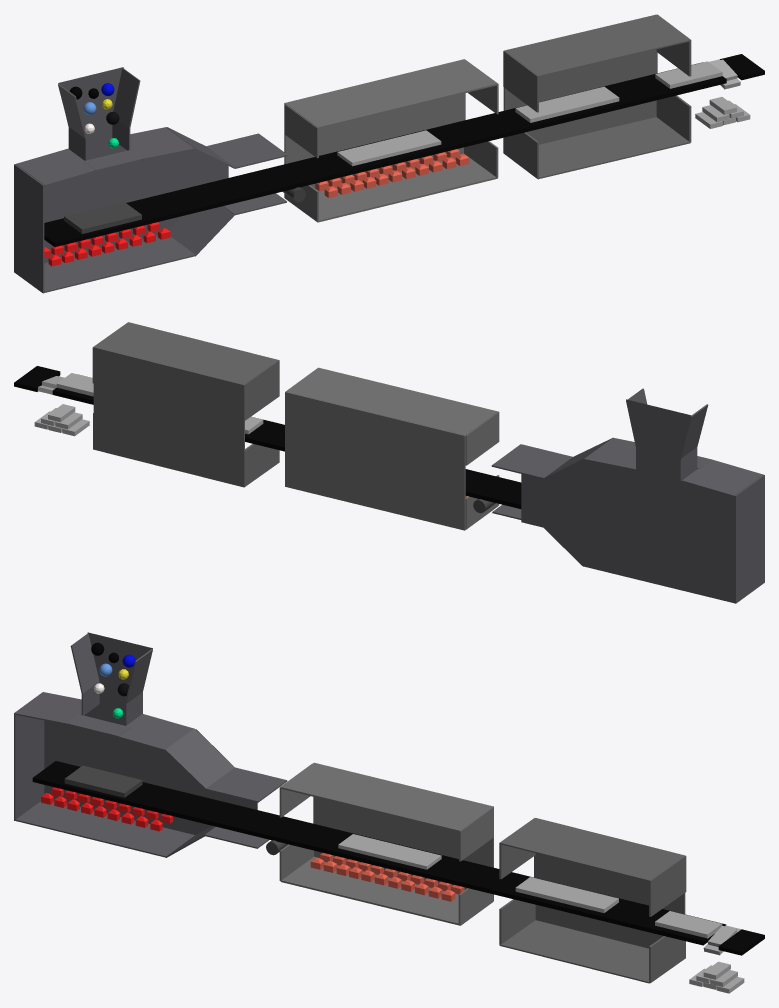
The model's file is proj1.gltf.
3 renders of one model, top to bottom at view 1: azimuth 30°, elevation 25°; view 2: azimuth 150°, elevation 25°; view 3: azimuth 330°, elevation 25°, orthographic.
Visible parts, largest first — view 1: Cube.042; view 2: Cube.042; view 3: Cube.042.
Boxes of the visible parts, <box> form: Cube.042: <box>14,14,764,293</box>; Cube.042: <box>14,322,764,603</box>; Cube.042: <box>14,632,764,993</box>.
Size of the model in its own units: 24.19 by 5.77 by 2.09.
